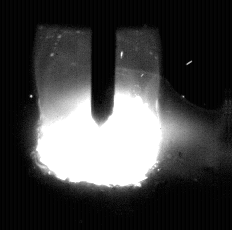arame: (92, 0, 116, 125)
poca: (36, 0, 162, 230)
